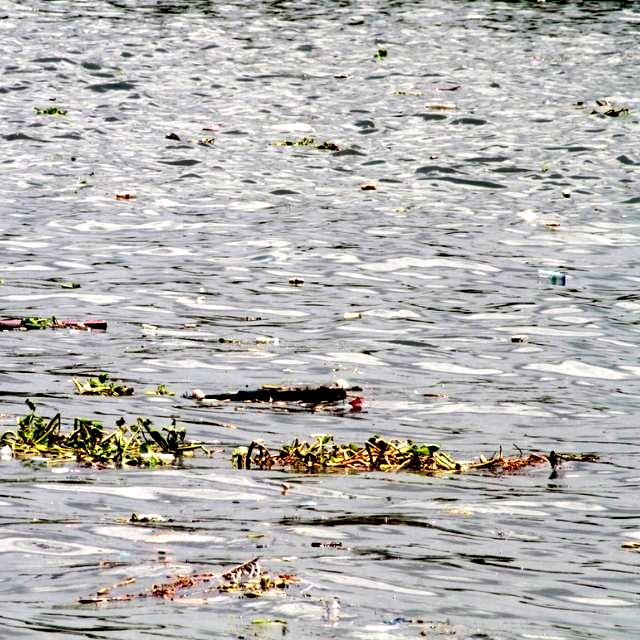plastic bottle: (538, 267, 575, 285)
water-hyacinth: (1, 399, 198, 467), (229, 431, 458, 475), (76, 368, 136, 401)
